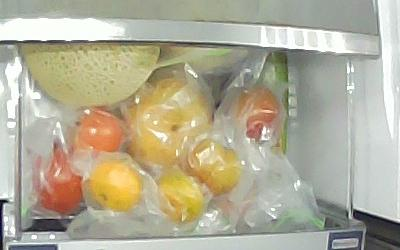melon: (20, 42, 160, 107)
pear_vinyl: (125, 77, 212, 167)
prune_vinyl: (182, 135, 240, 197), (232, 86, 281, 139), (72, 108, 126, 153)
tangerine_vinyl: (87, 158, 141, 212), (155, 170, 203, 223)
tomato_vinyl: (36, 144, 85, 215)
zucchini: (260, 52, 287, 155)
